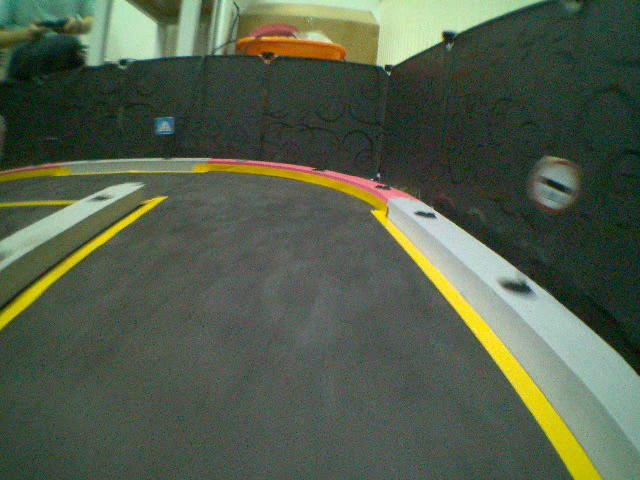Check: (525, 153, 584, 212)
crossing: (156, 116, 174, 135)
